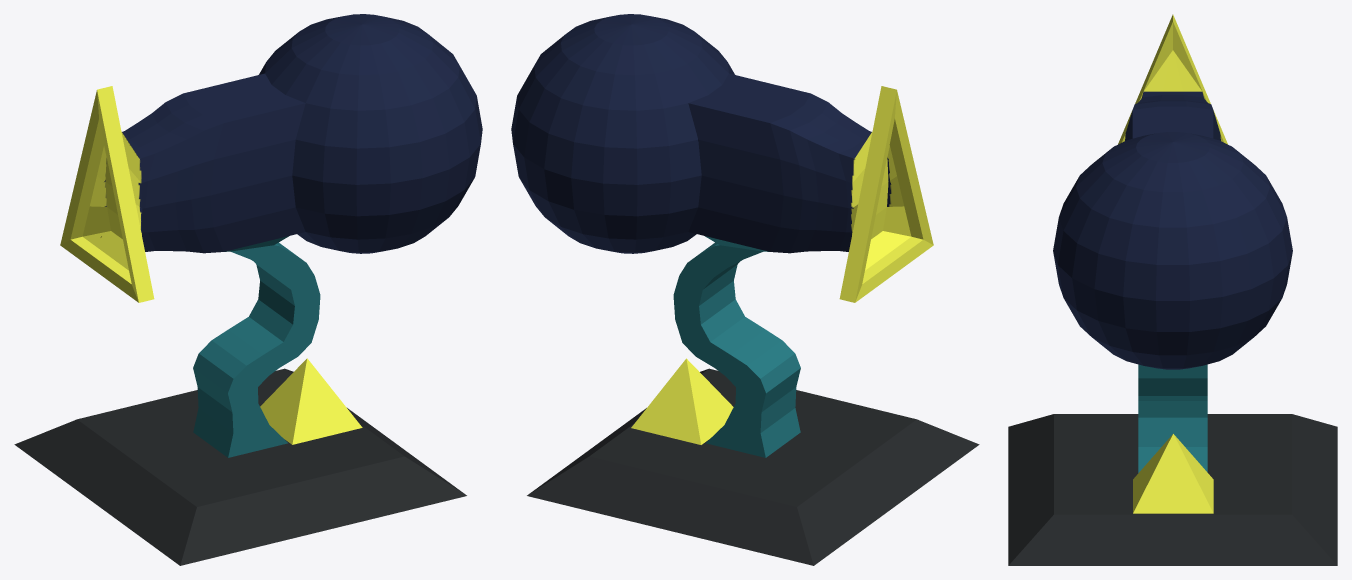
Rendered from TurretPyramid.fbx.
The picture shows the model from 3 angles, left to right: view 1: azimuth 30°, elevation 25°; view 2: azimuth 150°, elevation 25°; view 3: azimuth 270°, elevation 25°; orthographic projection.
Parts seen in each view (by area): view 1: TurretPyramid; view 2: TurretPyramid; view 3: TurretPyramid.
Part boxes in pixels (x1,y1,x2,y2): TurretPyramid: [14, 14, 482, 565]; TurretPyramid: [511, 14, 979, 565]; TurretPyramid: [1008, 14, 1337, 565].
Size of the model in its own units: 12.84 by 13.84 by 10.
Materials: 1 (1 with a texture image).
